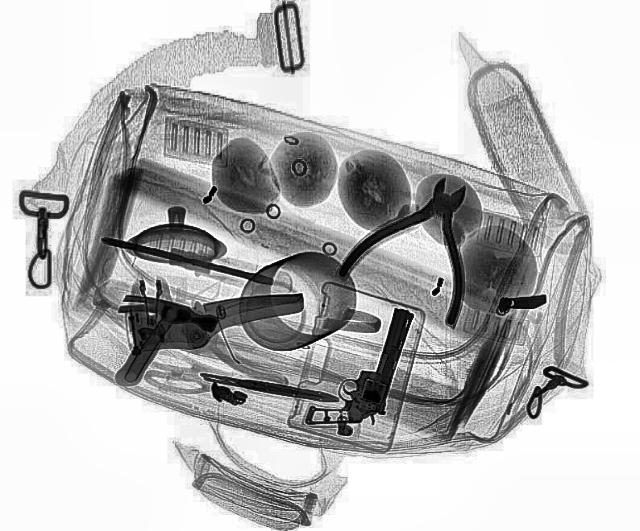Gun: (304, 299, 424, 443)
Pliers: (330, 163, 520, 325)
